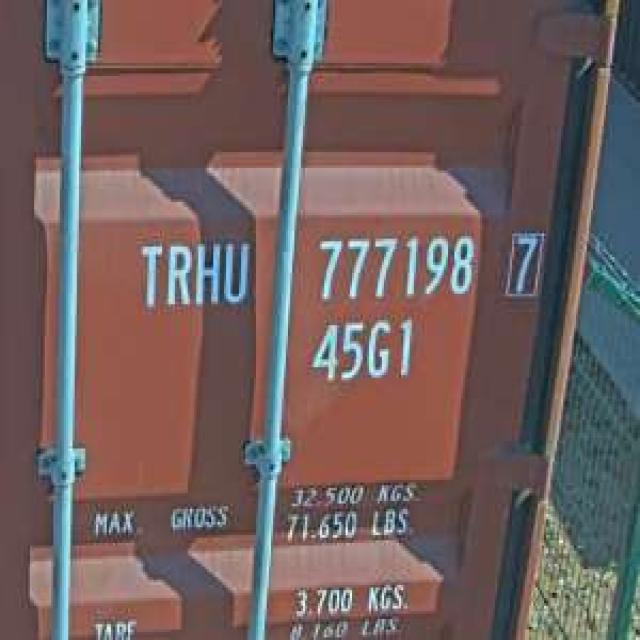dv: (499, 223, 546, 302)
owner: (130, 231, 252, 312)
serial: (309, 225, 478, 307)
size: (305, 312, 418, 391)
